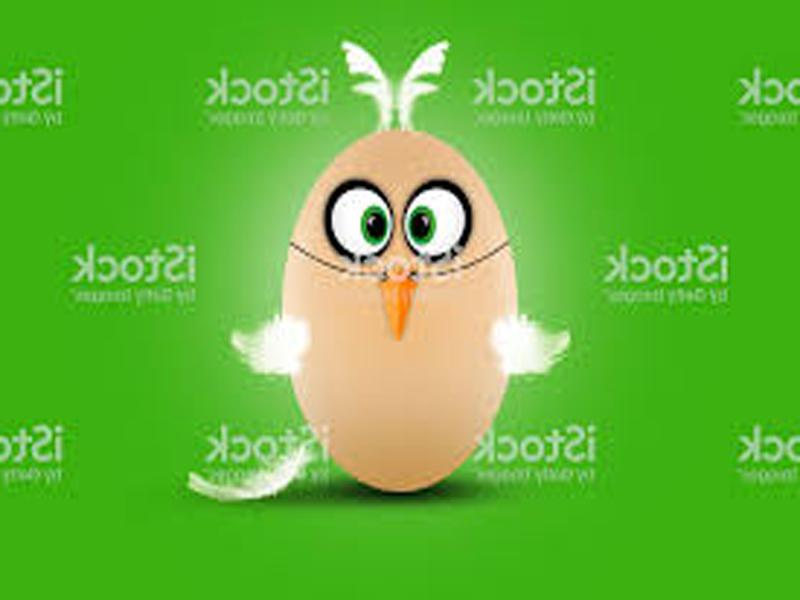Eggs: (281, 128, 514, 495)
